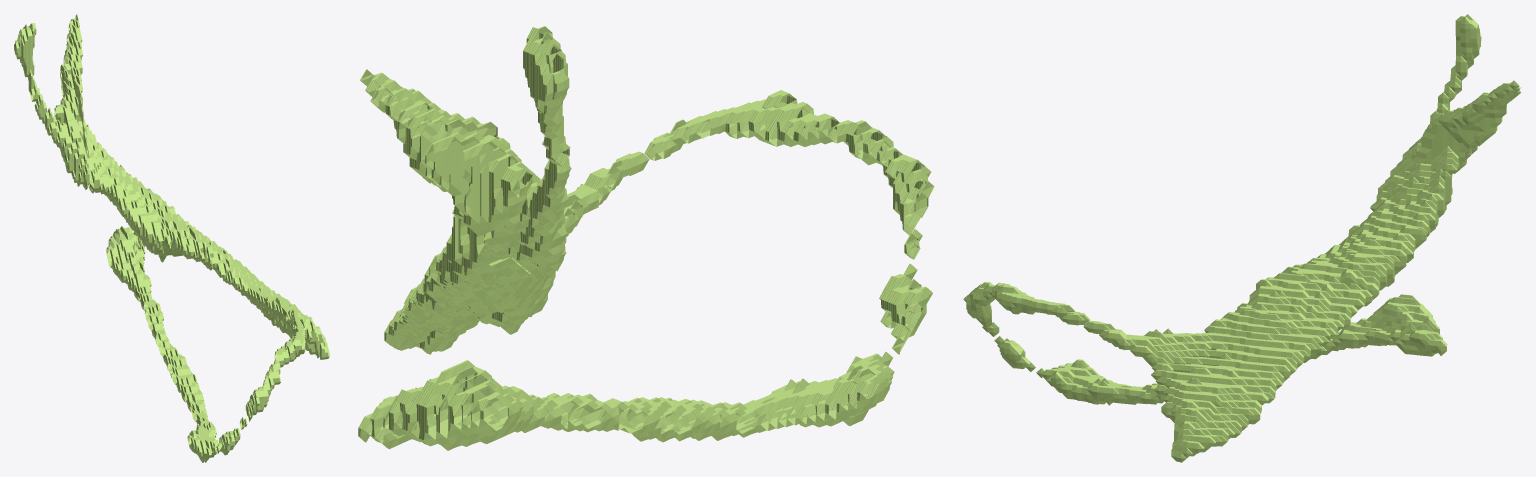
The model's file is SVV_URAVL.gltf.
The picture shows the model from 3 angles, left to right: view 1: azimuth 30°, elevation 25°; view 2: azimuth 150°, elevation 25°; view 3: azimuth 270°, elevation 25°; orthographic projection. The views are drawn at different scales.
Visible parts, largest first — view 1: URAVL; view 2: URAVL; view 3: URAVL.
Part boxes in pixels (bbox=[...]): URAVL: bbox=[14, 14, 329, 462]; URAVL: bbox=[358, 26, 934, 450]; URAVL: bbox=[963, 14, 1521, 462].
Size of the model in its own units: 31595 by 49475 by 66063.
